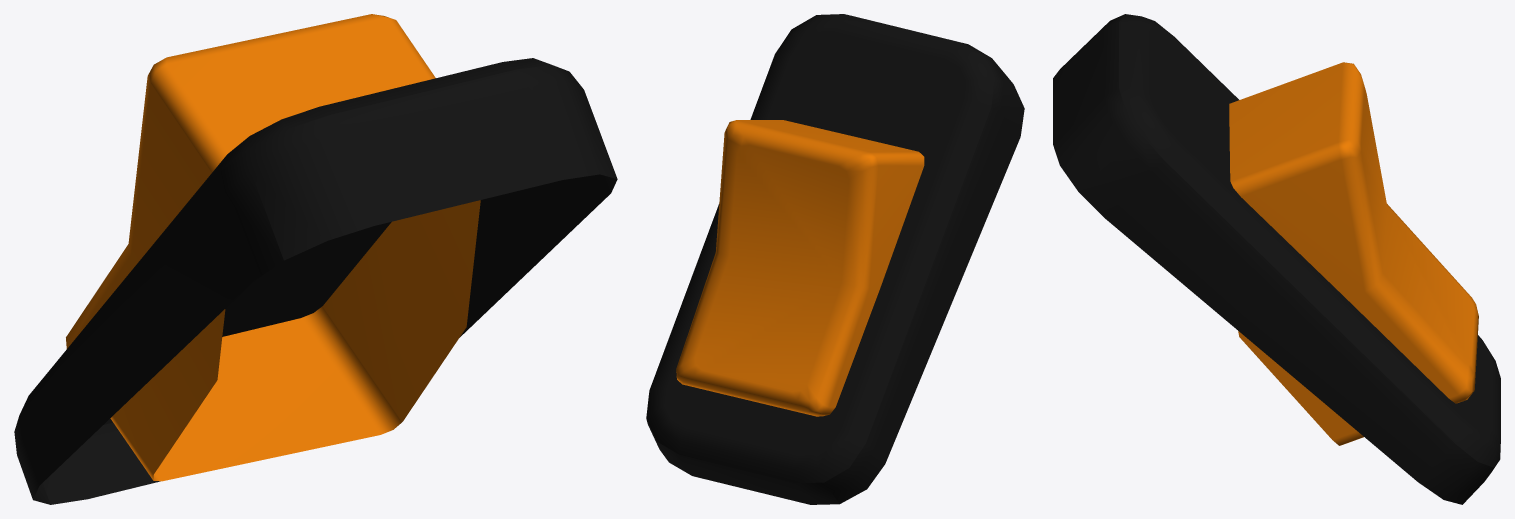
The model's file is botaoluz.gltf.
The picture shows the model from 3 angles, left to right: view 1: azimuth 30°, elevation 25°; view 2: azimuth 150°, elevation 25°; view 3: azimuth 270°, elevation 25°; orthographic projection. The views are drawn at different scales.
Visible parts, largest first — view 1: 5060e.133; view 2: 5060e.133; view 3: 5060e.133.
Boxes of the visible parts, bbox=[...] form: 5060e.133: bbox=[14, 14, 617, 504]; 5060e.133: bbox=[646, 14, 1024, 504]; 5060e.133: bbox=[1053, 14, 1500, 504].
Size of the model in its own units: 2.58 by 3.88 by 3.86.
